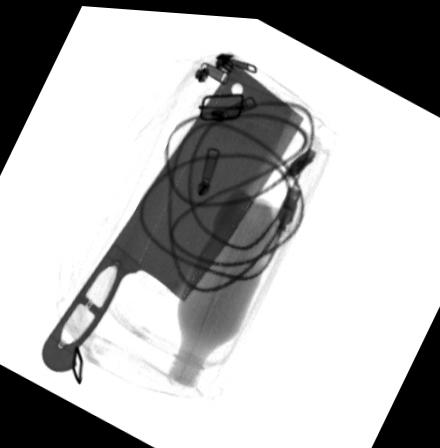Knife: (42, 56, 307, 373)
